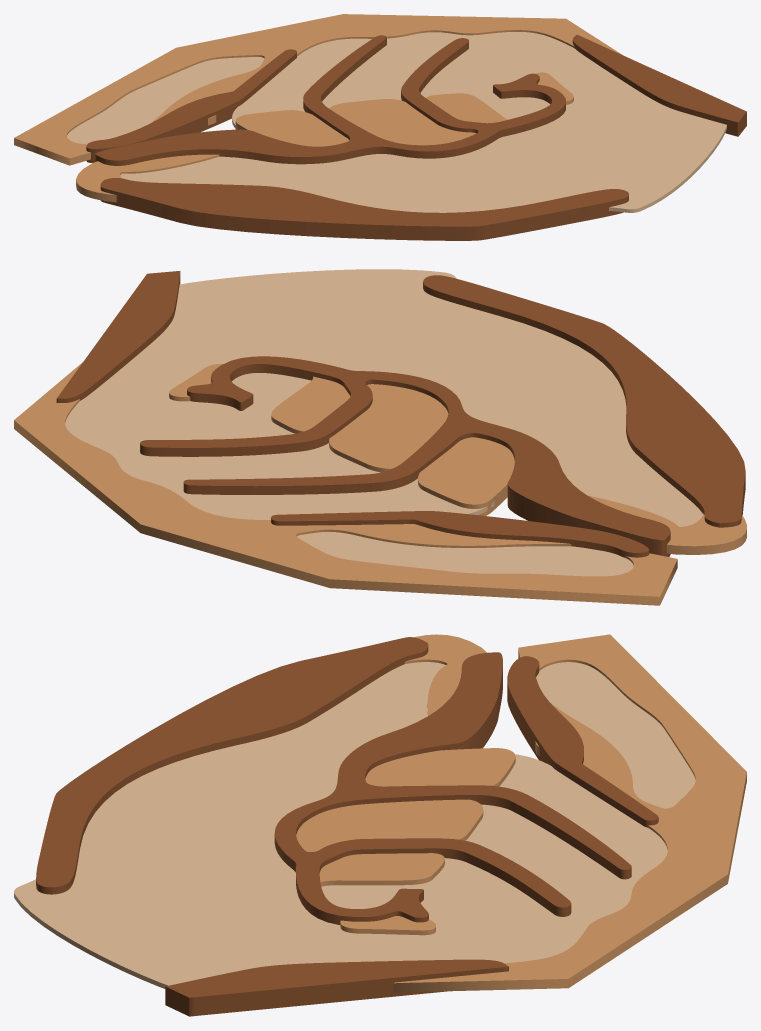
File: emoji_u1f90f_1f3fc.glb
3 views of the same model, one above another, from view 1: azimuth 30°, elevation 25°; view 2: azimuth 150°, elevation 25°; view 3: azimuth 270°, elevation 25° (orthographic). The views are drawn at different scales.
Visible parts, largest first — view 1: emoji_u1f90f_1f3fc; view 2: emoji_u1f90f_1f3fc; view 3: emoji_u1f90f_1f3fc.
Part boxes in pixels (<box>): emoji_u1f90f_1f3fc: <box>14,14,746,240</box>; emoji_u1f90f_1f3fc: <box>14,269,746,605</box>; emoji_u1f90f_1f3fc: <box>14,634,746,1016</box>.
Bounding box in the file's own units: 0.0336 × 0.001 × 0.0283.
